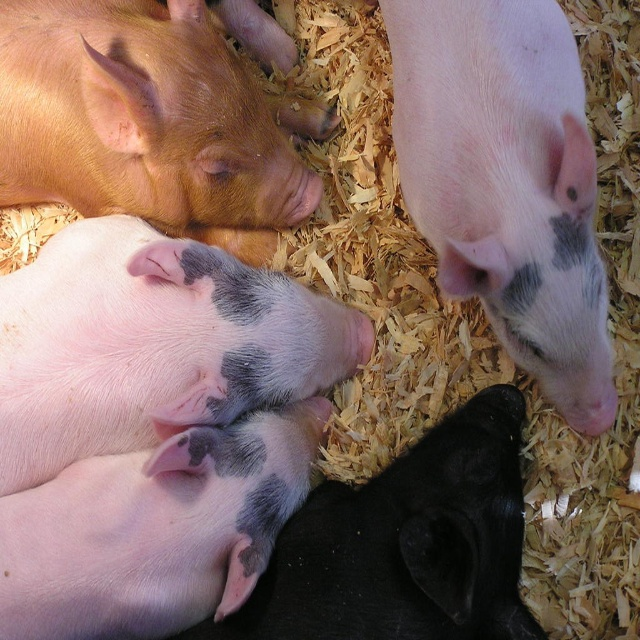Pig: (0, 0, 553, 639), (379, 0, 622, 438)
